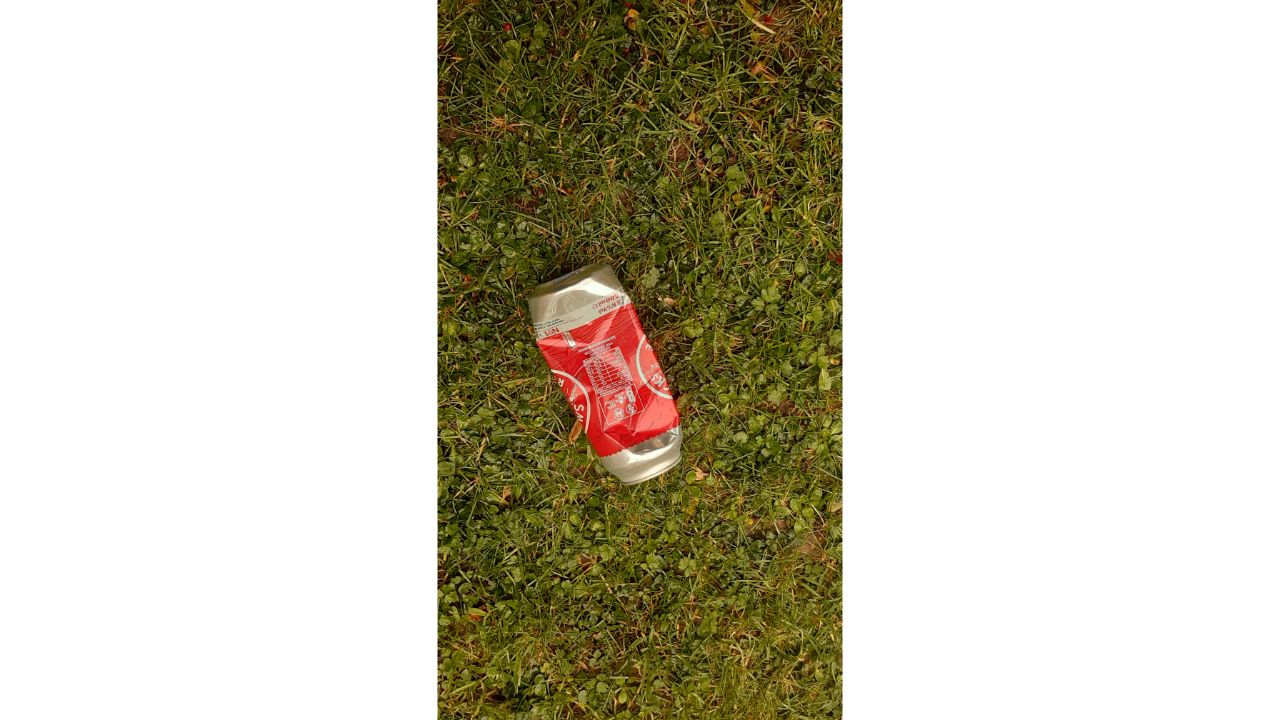Can: (520, 261, 683, 488)
